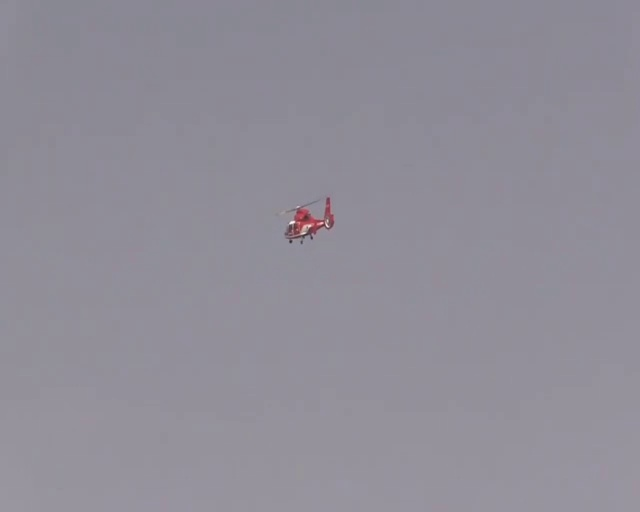HELICOPTER: (277, 195, 335, 245)
